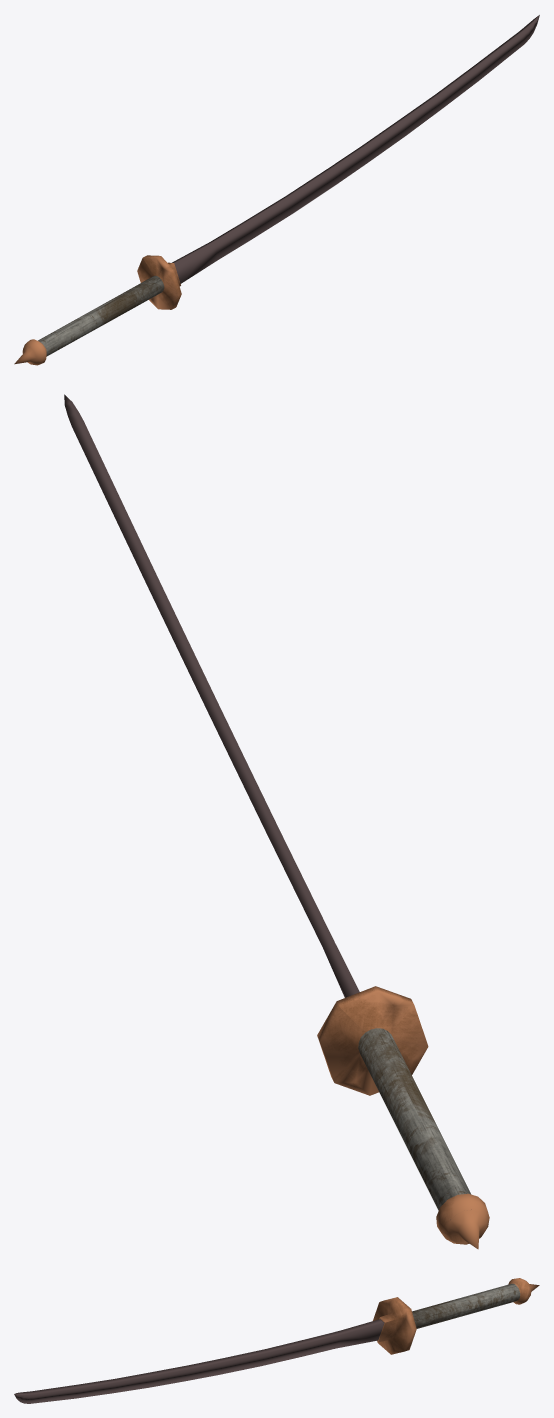
Rendered from Anim_idle_katana_objetos.0043.obj.
The picture shows the model from 3 angles, top to bottom: view 1: azimuth 90°, elevation 25°; view 2: azimuth 150°, elevation 25°; view 3: azimuth 270°, elevation 25°; orthographic projection. The views are drawn at different scales.
Visible parts, largest first — view 1: Katana1; view 2: Katana1; view 3: Katana1.
Part boxes in pixels (box(x1,y1,x2,y2)): Katana1: box(14, 15, 539, 365); Katana1: box(64, 394, 489, 1249); Katana1: box(14, 1278, 539, 1403).
Size of the model in its own units: 3.79 by 0.9971 by 3.67.
